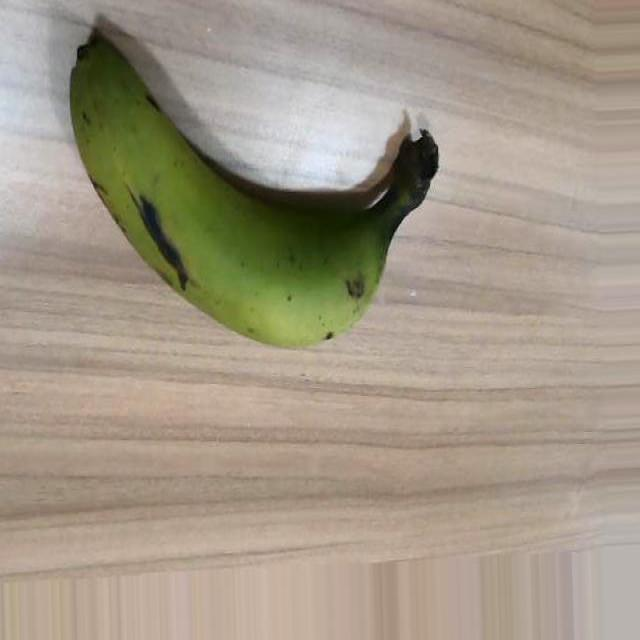Unripe: (69, 26, 441, 347)
